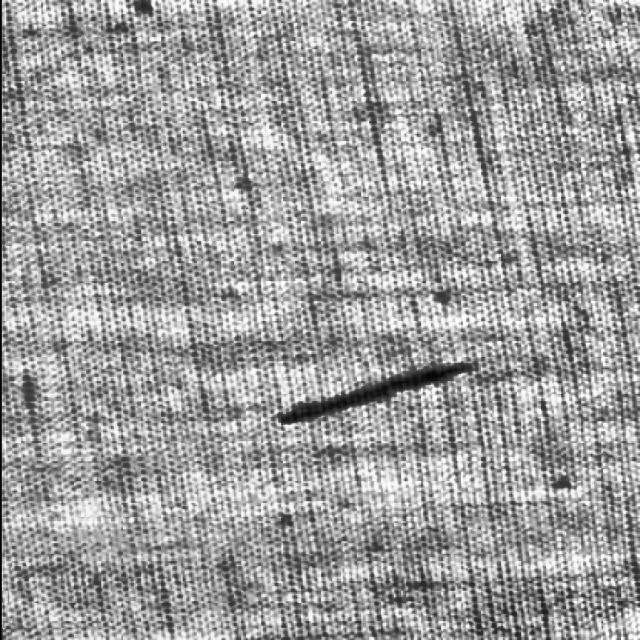oil_spot: (267, 350, 482, 441)
